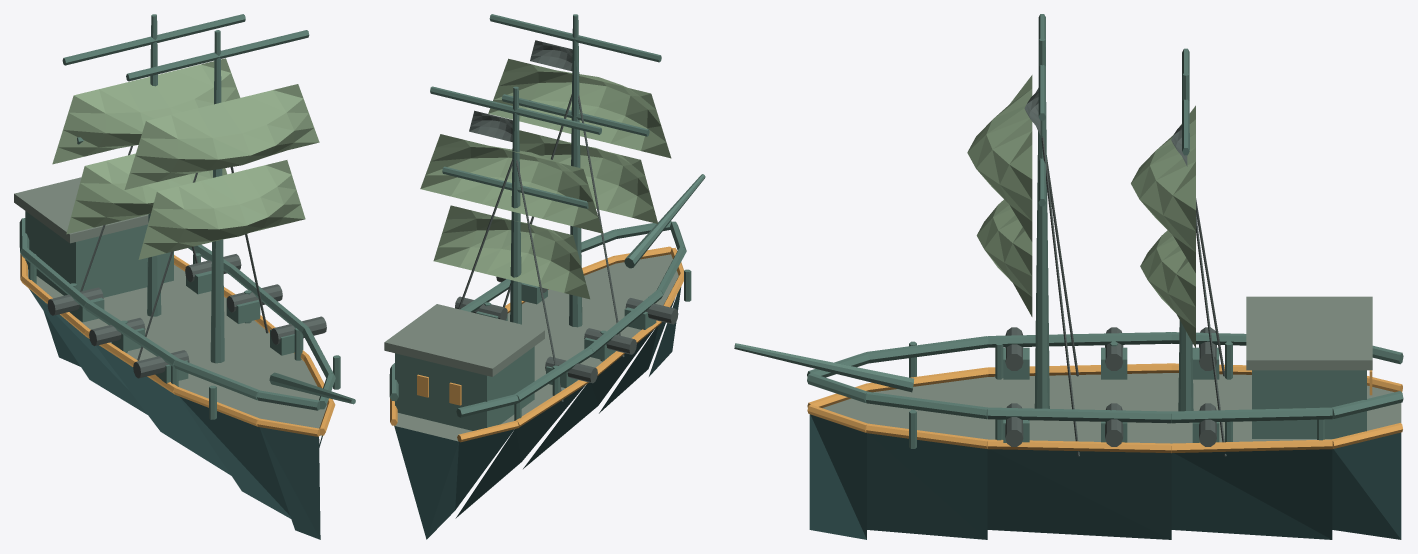
File: event_halloween_npc_sloop_01.glb
3 views of the same model, side by side, from view 1: azimuth 30°, elevation 25°; view 2: azimuth 150°, elevation 25°; view 3: azimuth 270°, elevation 25° (orthographic). The views are drawn at different scales.
Parts seen in each view (by area): view 1: event_halloween_npc_sloop_01_Complete; view 2: event_halloween_npc_sloop_01_Complete; view 3: event_halloween_npc_sloop_01_Complete.
Boxes of the visible parts, box(x1,y1,x2,y2) form: event_halloween_npc_sloop_01_Complete: box(14, 14, 355, 539); event_halloween_npc_sloop_01_Complete: box(384, 14, 705, 539); event_halloween_npc_sloop_01_Complete: box(734, 14, 1403, 539).
Bounding box in the file's own units: 2.58 × 5.58 × 6.76.
